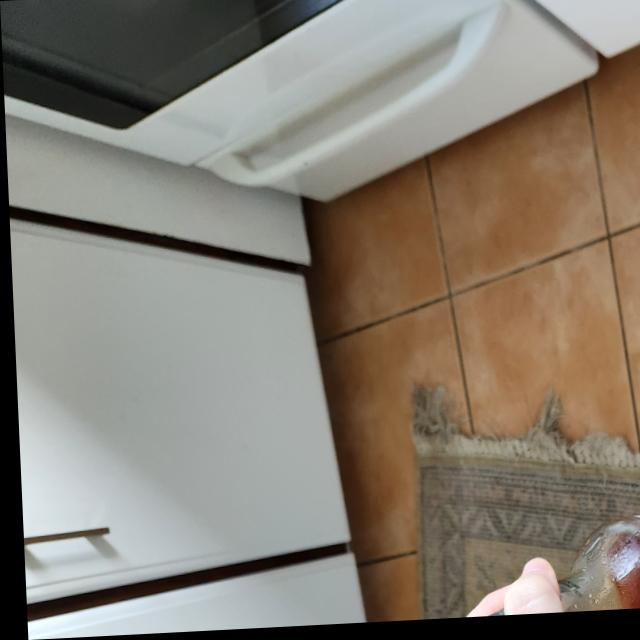sweet chili sauce: (408, 483, 640, 624)
